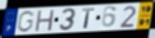2: (119, 5, 138, 29)
3: (58, 8, 78, 32)
6: (101, 5, 119, 31)
G: (16, 10, 36, 33)
H: (34, 9, 56, 33)
T: (81, 7, 96, 29)
